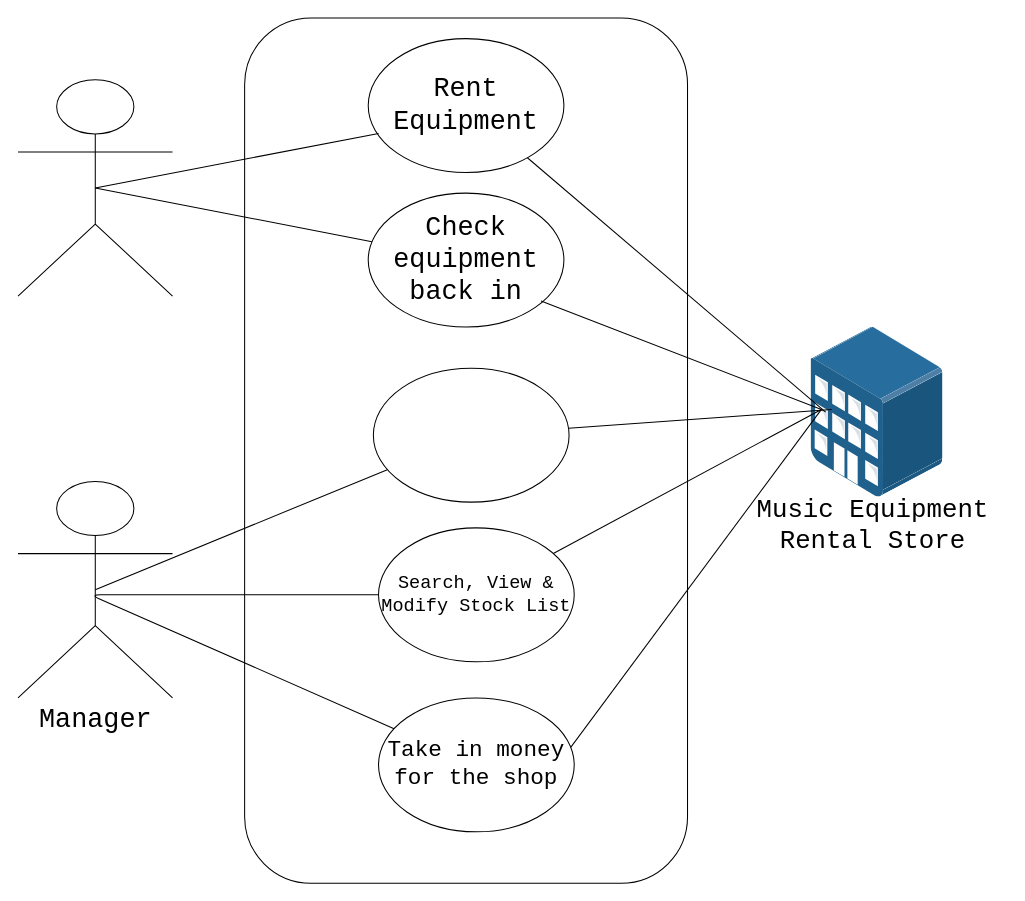
This 1025x901 diagram has some shape labels left out. The shapes that lost their labels are listed below. From the top down, each one's box as (x1, y1, x2, y2) in pixels, then its label:
(17, 79, 173, 296): Customer
(372, 367, 569, 502): View & Modify Customer Details
